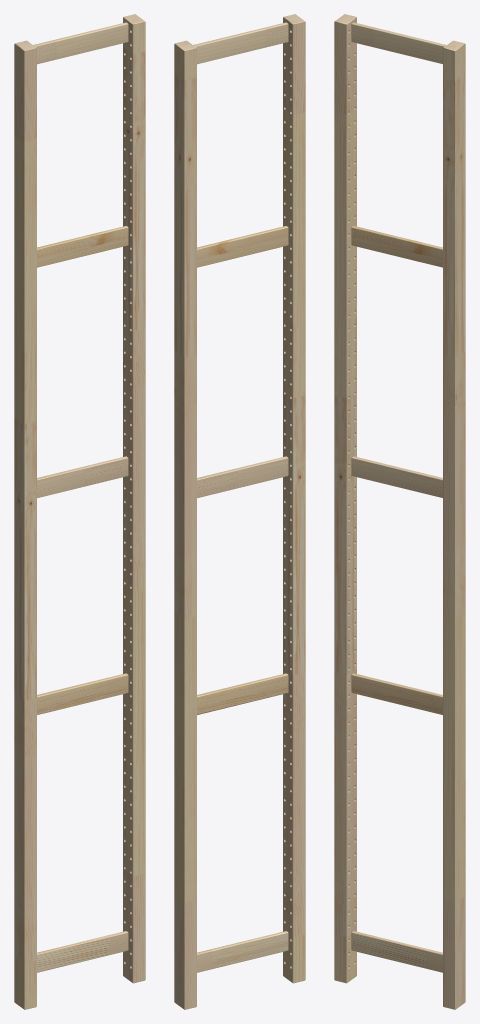
File: ivar_czesc_boczna_30484652.glb
The picture shows the model from 3 angles, left to right: view 1: azimuth 30°, elevation 25°; view 2: azimuth 210°, elevation 25°; view 3: azimuth 330°, elevation 25°; orthographic projection.
Visible parts, largest first — view 1: ivar_czesc_boczna_30484652; view 2: ivar_czesc_boczna_30484652; view 3: ivar_czesc_boczna_30484652.
Part boxes in pixels (box(x1,y1,x2,y2)): ivar_czesc_boczna_30484652: box(14, 14, 145, 1009); ivar_czesc_boczna_30484652: box(174, 14, 305, 1009); ivar_czesc_boczna_30484652: box(334, 14, 465, 1009).
Bounding box in the file's own units: 0.3 × 2.26 × 0.044.
1 material, 1 textured.
